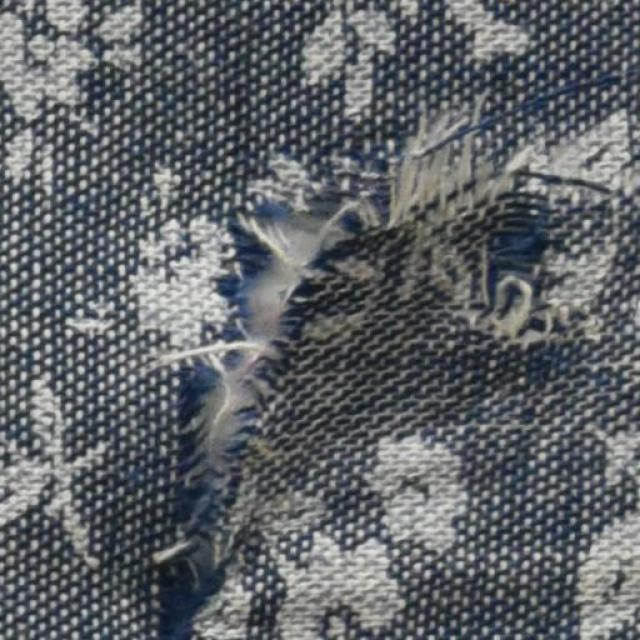Hole: (209, 213, 323, 491)
Snag: (145, 154, 355, 639), (385, 94, 558, 347)
